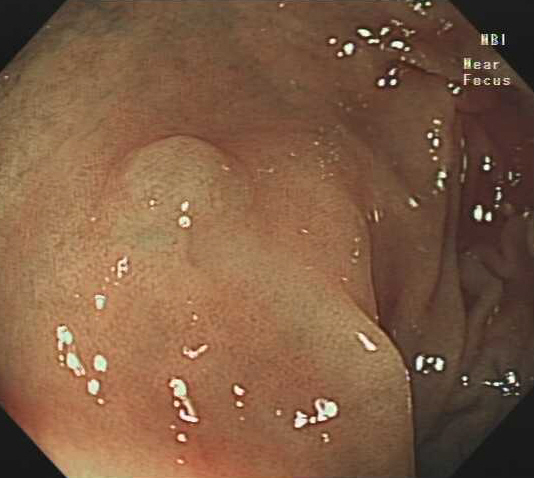others: (111, 129, 256, 235)
